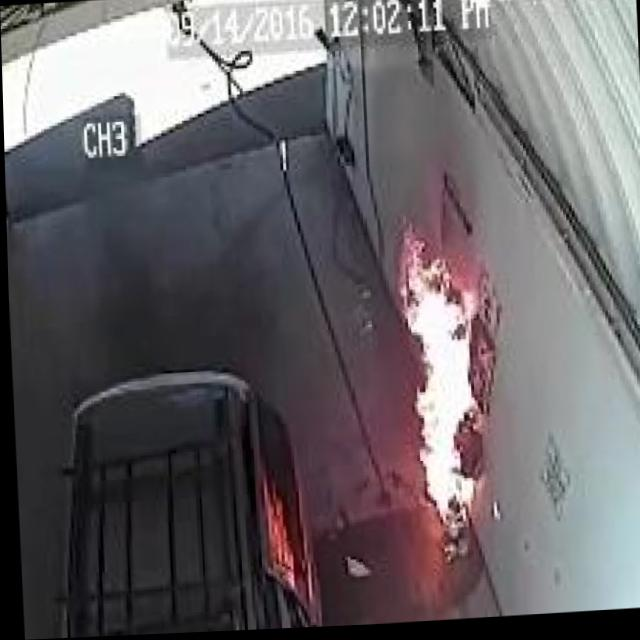fire: (381, 214, 503, 545)
